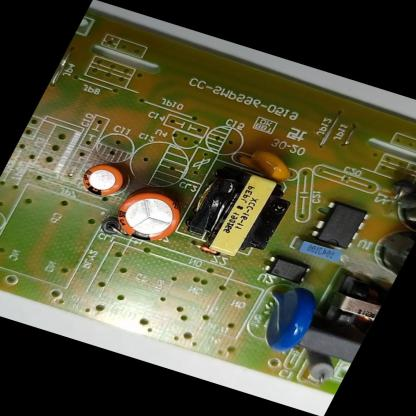Cap1: (104, 182, 192, 250)
Cap2: (76, 159, 130, 202)
Cap3: (362, 222, 416, 285)
Cap4: (386, 166, 416, 230)
MOSFET: (306, 197, 377, 254)
Mov: (243, 277, 330, 358)
Resistor: (290, 346, 344, 386)
Transformer: (177, 160, 300, 267), (308, 268, 392, 339)
